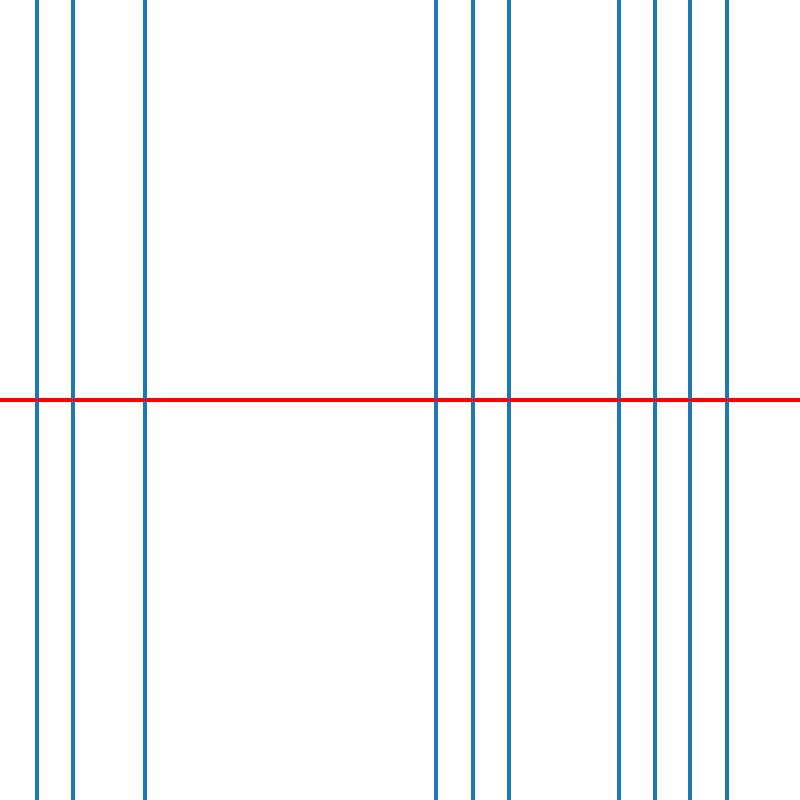root: (32, 396, 40, 404), (650, 396, 658, 404), (432, 396, 440, 404), (141, 396, 149, 404), (614, 396, 621, 404), (687, 396, 694, 404), (469, 396, 476, 404), (723, 396, 730, 404), (69, 396, 76, 404), (505, 396, 512, 404)
